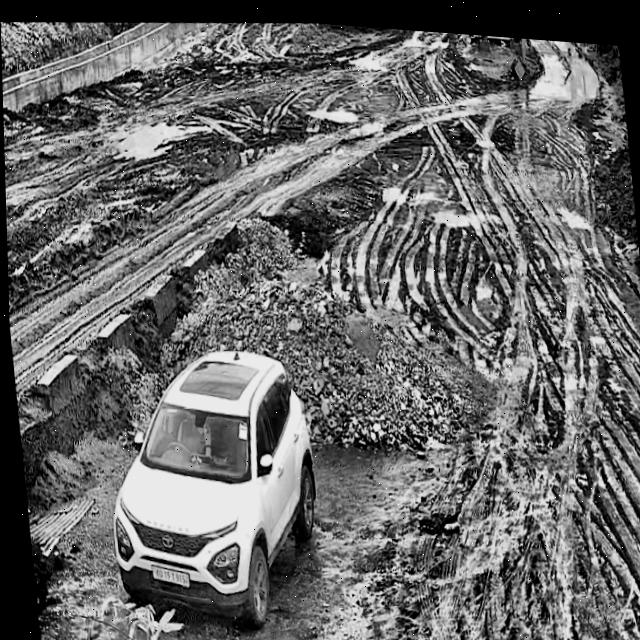light_vehicle: (81, 300, 331, 640)
